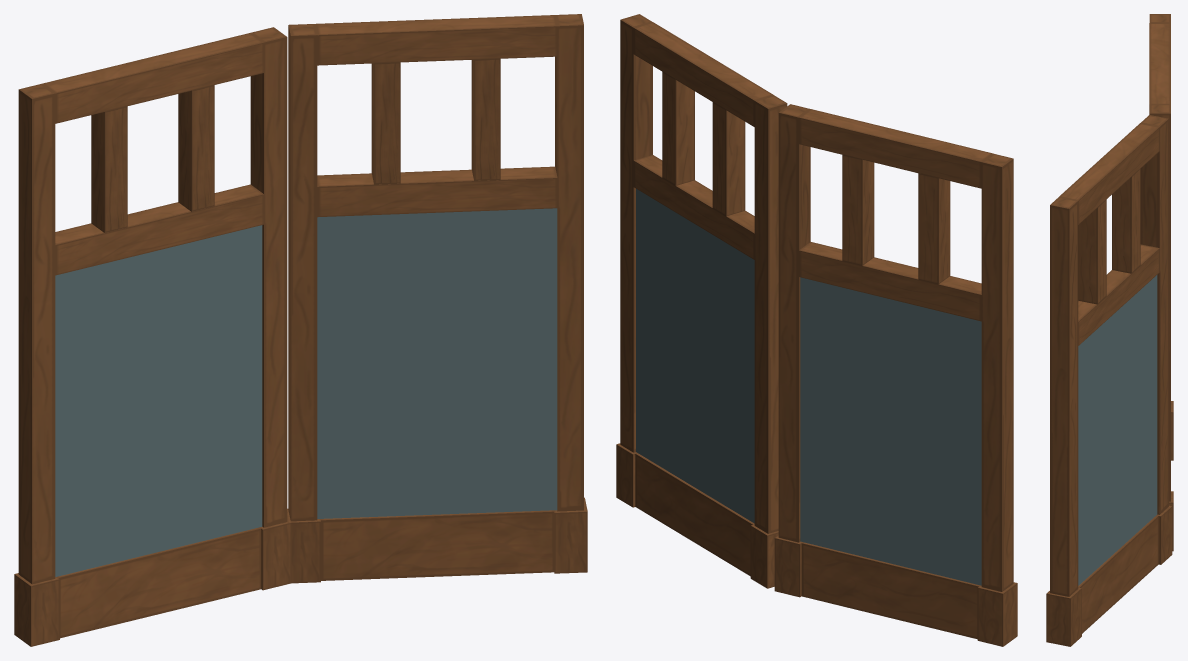
File: Sekat_Dapur.fbx
3 views of the same model, side by side, from view 1: azimuth 30°, elevation 25°; view 2: azimuth 150°, elevation 25°; view 3: azimuth 270°, elevation 25° (orthographic). The views are drawn at different scales.
Visible parts, largest first — view 1: Cube.000, Cube.014; view 2: Cube.014, Cube.000; view 3: Cube.000, Cube.014.
Boxes of the visible parts, bbox=[...] form: Cube.000: bbox=[287, 14, 587, 583]; Cube.014: bbox=[14, 27, 291, 646]; Cube.014: bbox=[774, 104, 1017, 646]; Cube.000: bbox=[616, 14, 787, 588]; Cube.000: bbox=[1046, 115, 1172, 646]; Cube.014: bbox=[1149, 14, 1173, 551].
Size of the model in its own units: 175 by 180 by 47.57.
Materials: 5 (4 with a texture image).
